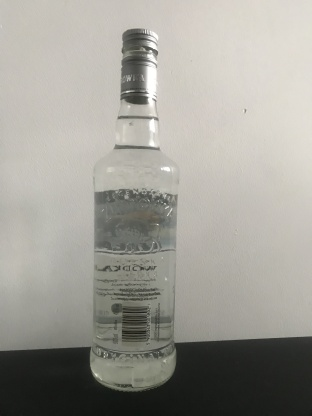nakretka: (119, 25, 159, 104)
